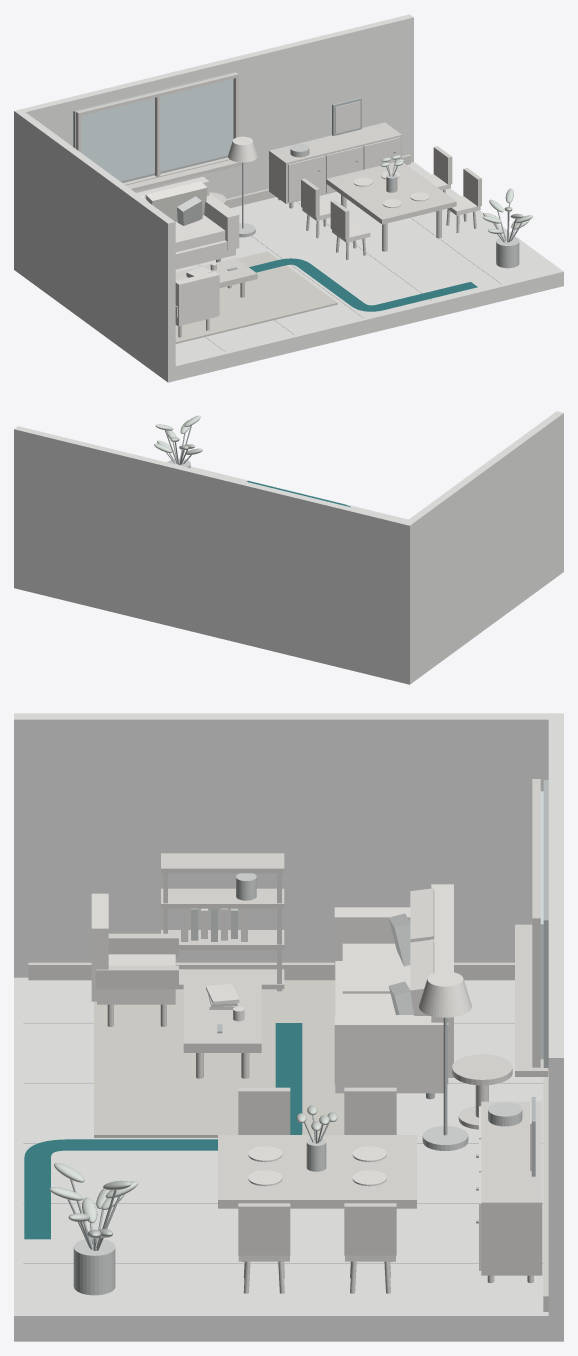
The model's file is living-dining.glb.
3 renders of one model, top to bottom at view 1: azimuth 30°, elevation 25°; view 2: azimuth 150°, elevation 25°; view 3: azimuth 270°, elevation 25°, orthographic. The views are drawn at different scales.
Visible parts, largest first — view 1: Foundation, Back wall, Left wall, Window glazing, Living rug, Dining tabletop, Sideboard body, Teal route - reveal along path, Lounge chair back, Back cushion.001, Individual seat cushion.001, Sideboard door (+18 smaller); view 2: Back wall, Left wall, Foundation; view 3: Left wall, Foundation, Living rug, Dining tabletop, Sideboard body, Back wall, Sofa arm.001, Teal route - reveal along path, Coffee table top, Left skirting, Individual seat cushion, Window sill (+28 smaller).
Part boxes in pixels (x1=…): Foundation: x1=14, y1=162, x2=563, y2=382; Back wall: x1=14, y1=14, x2=413, y2=257; Left wall: x1=18, y1=112, x2=175, y2=367; Window glazing: x1=81, y1=79, x2=232, y2=181; Living rug: x1=175, y1=251, x2=337, y2=343; Dining tabletop: x1=326, y1=162, x2=456, y2=224; Sideboard body: x1=269, y1=122, x2=401, y2=203; Teal route - reveal along path: x1=249, y1=258, x2=477, y2=311; Lounge chair back: x1=175, y1=271, x2=219, y2=325; Back cushion.001: x1=145, y1=181, x2=207, y2=221; Individual seat cushion.001: x1=175, y1=215, x2=225, y2=252; Sideboard door: x1=288, y1=155, x2=325, y2=202; Back wall: x1=14, y1=426, x2=413, y2=670; Left wall: x1=407, y1=411, x2=563, y2=666; Foundation: x1=14, y1=461, x2=563, y2=684; Left wall: x1=14, y1=713, x2=548, y2=977; Foundation: x1=14, y1=977, x2=563, y2=1341; Living rug: x1=94, y1=980, x2=344, y2=1137; Dining tabletop: x1=218, y1=1135, x2=416, y2=1208; Sideboard body: x1=481, y1=1101, x2=542, y2=1275; Back wall: x1=548, y1=713, x2=563, y2=1315; Sofa arm.001: x1=334, y1=1015, x2=448, y2=1084; Teal route - reveal along path: x1=24, y1=1023, x2=302, y2=1239; Coffee table top: x1=183, y1=981, x2=261, y2=1052; Left skirting: x1=28, y1=962, x2=514, y2=980; Individual seat cushion: x1=342, y1=943, x2=410, y2=993; Window sill: x1=515, y1=924, x2=548, y2=1076.
Bounding box in the file's own units: 8.6 × 3.3 × 5.8.
